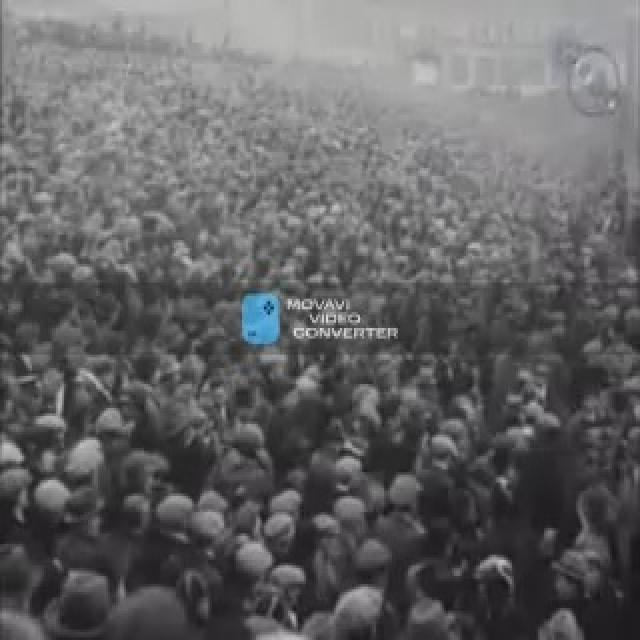non-voilence: (0, 16, 638, 637), (282, 293, 400, 344), (238, 288, 280, 347)
